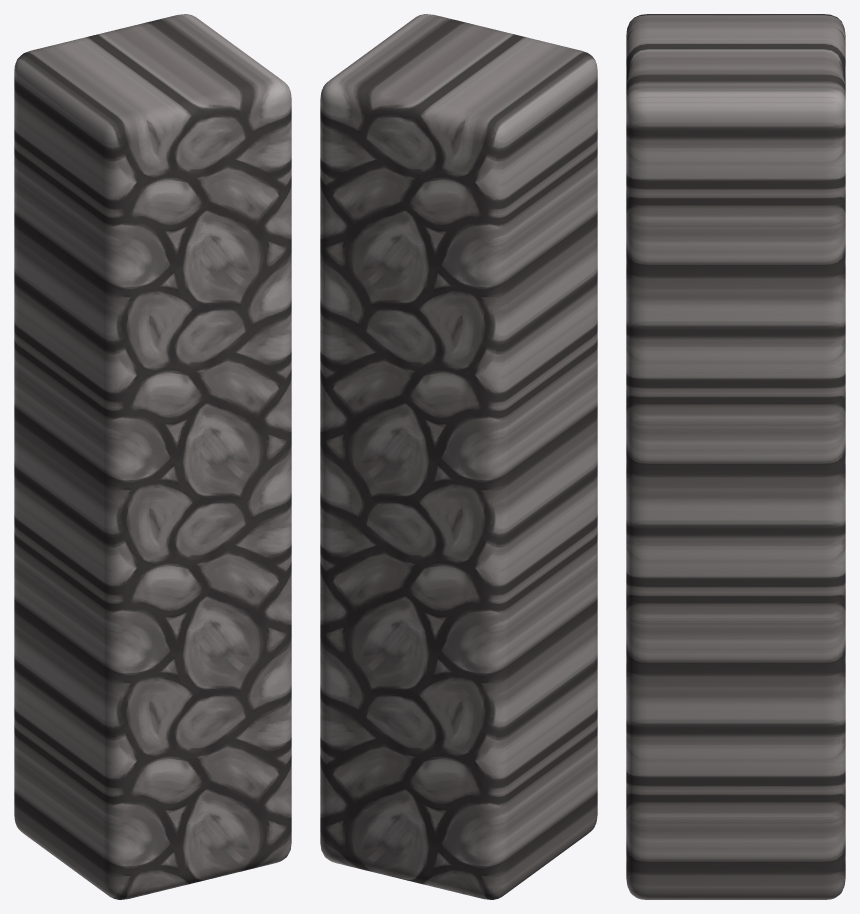
The model's file is long_block.FBX.
3 views of the same model, side by side, from view 1: azimuth 30°, elevation 25°; view 2: azimuth 150°, elevation 25°; view 3: azimuth 270°, elevation 25° (orthographic). The views are drawn at different scales.
Parts seen in each view (by area): view 1: Box002; view 2: Box002; view 3: Box002.
Part boxes in pixels (left/top/right/bottom): Box002: left=14, top=14, right=291, bottom=899; Box002: left=320, top=14, right=597, bottom=899; Box002: left=626, top=14, right=845, bottom=899.
Bounding box in the file's own units: 1 × 4.05 × 1.
